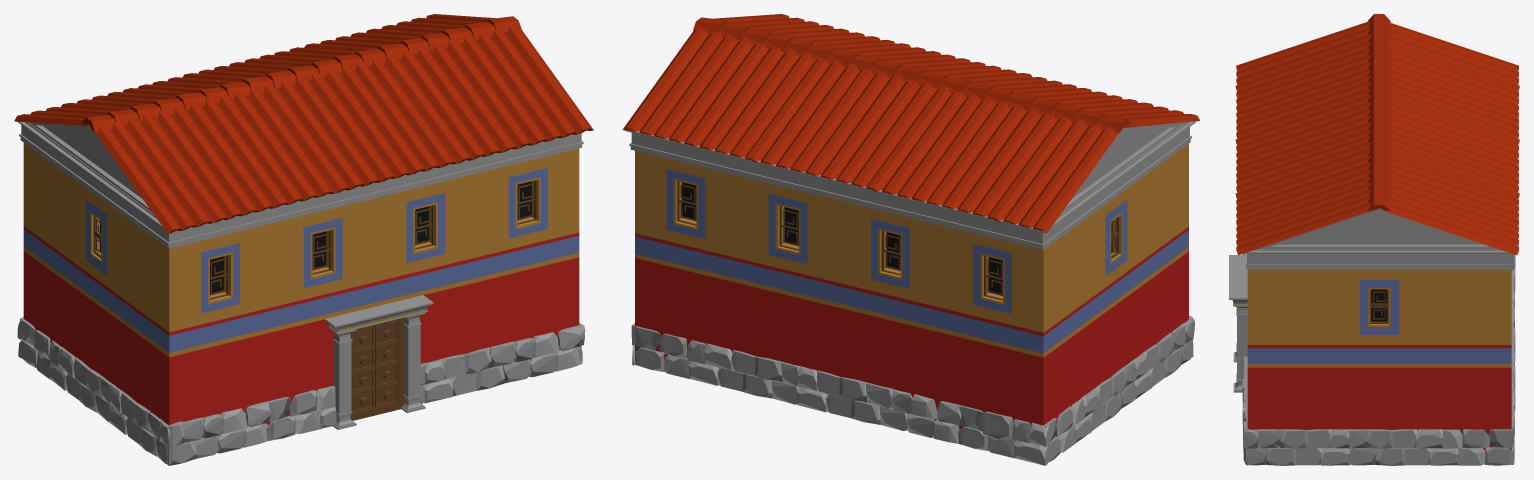
Rendered from SM_villa_roman_02.fbx.
The picture shows the model from 3 angles, left to right: view 1: azimuth 30°, elevation 25°; view 2: azimuth 150°, elevation 25°; view 3: azimuth 270°, elevation 25°; orthographic projection. The views are drawn at different scales.
Parts seen in each view (by area): view 1: Object244; view 2: Object244; view 3: Object244.
Boxes of the visible parts, bbox=[...] form: Object244: bbox=[14, 14, 593, 465]; Object244: bbox=[622, 14, 1200, 465]; Object244: bbox=[1229, 14, 1519, 465].
Size of the model in its own units: 506 by 332 by 329.
